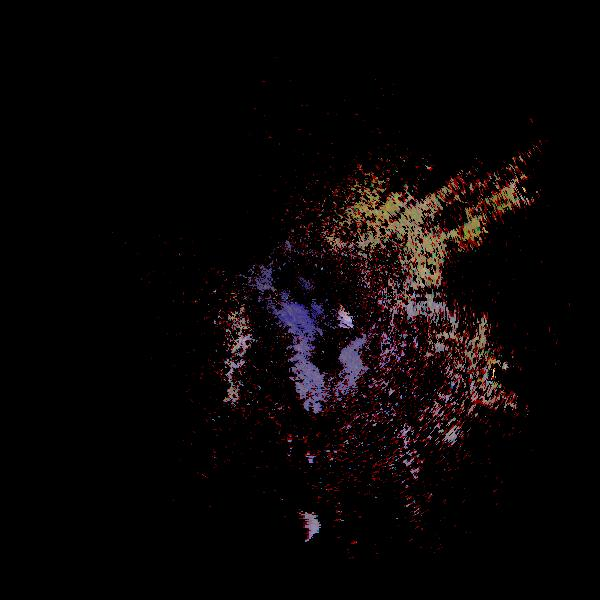roost: (286, 510, 322, 546)
